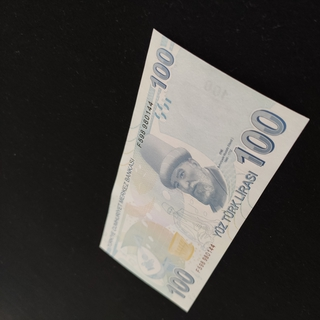100TLBack: (99, 27, 310, 313)
